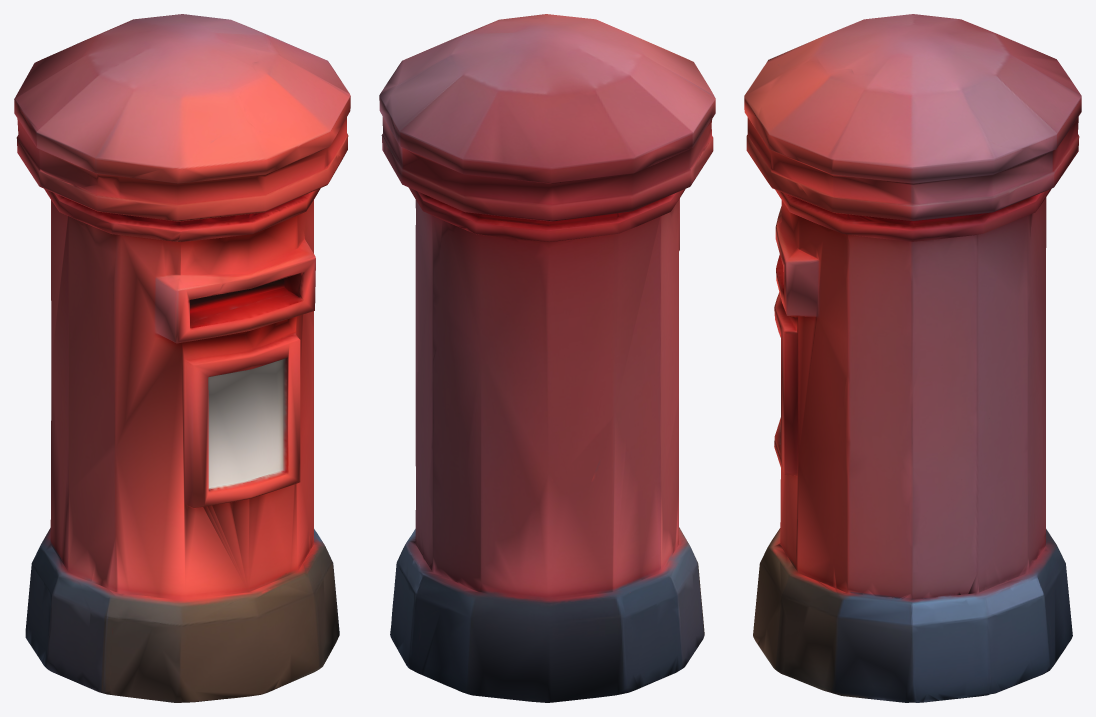
Rendered from postbox.glb.
3 views of the same model, side by side, from view 1: azimuth 30°, elevation 25°; view 2: azimuth 150°, elevation 25°; view 3: azimuth 270°, elevation 25° (orthographic).
Parts seen in each view (by area): view 1: node_0; view 2: node_0; view 3: node_0.
Part boxes in pixels (left/top/right/bottom): node_0: left=14, top=14, right=350, bottom=702; node_0: left=379, top=14, right=715, bottom=702; node_0: left=744, top=14, right=1081, bottom=702.
Size of the model in its own units: 0.5511 by 1.08 by 0.5514.
Materials: 1 (1 with a texture image).
